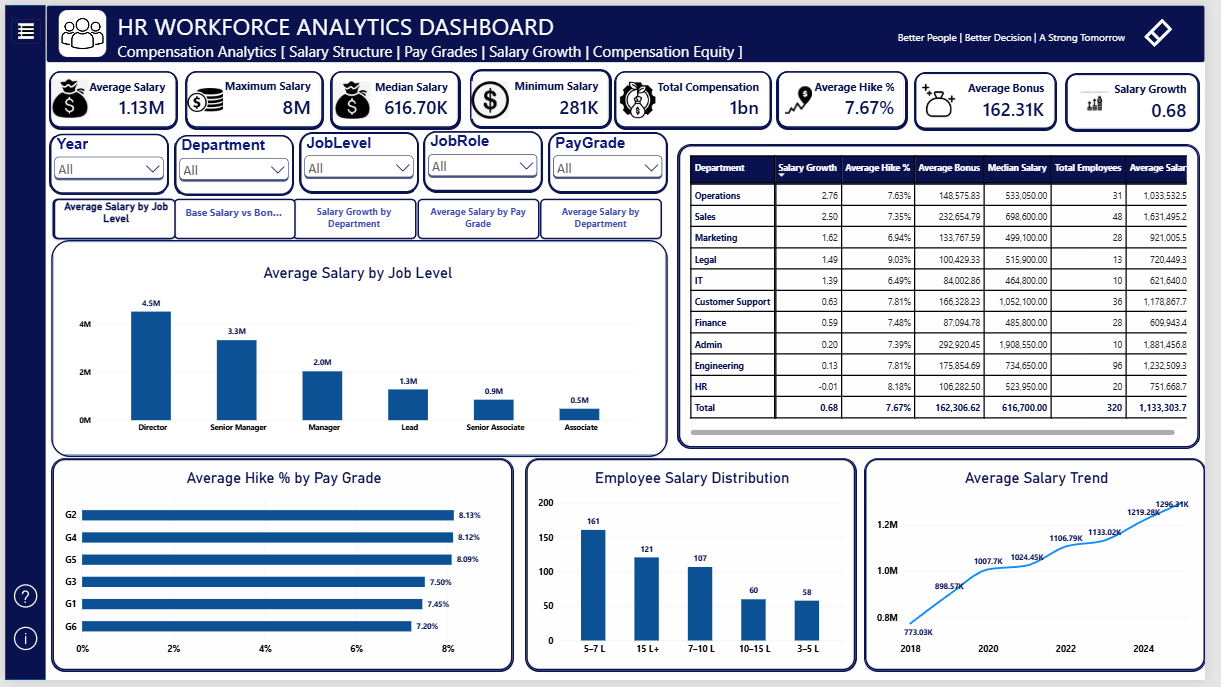

Layout of this report page (visuals, bound fields, positions):
{"tool":"powerbi","page":{"name":"Compensation Analytics","canvas":[1920,1080],"ordinal":4},"visuals":[{"type":"shape","title":"side corner layout","box":[0,0,65,1080],"z":0,"group":"g8"},{"type":"actionButton","title":"top nav bar","box":[66,0,1854,92],"z":0,"group":"g7"},{"type":"cardVisual","fields":{"Data":["Measures (2).Average Bonus"]},"box":[1456.4,108,225.7,90],"z":0,"group":"g9"},{"type":"cardVisual","fields":{"Data":["Measures (2).Salary Growth %"]},"box":[1699.2,108.3,211.7,90],"z":0,"group":"g10"},{"type":"slicer","fields":{"Values":["DimDate.Year"]},"box":[72,205.3,189.3,96],"z":0,"group":"g1"},{"type":"shape","box":[74,377.7,986.5,347.1],"z":0,"group":"g4"},{"type":"image","title":"people icon","box":[85,7.5,76,75],"z":1000,"group":"g7"},{"type":"image","box":[1456.4,122.3,75.7,61.4],"z":1000,"group":"g9"},{"type":"slicer","fields":{"Values":["DimEmployee.JobLevel"]},"box":[471.4,204,189.3,96],"z":1000,"group":"g1"},{"type":"actionButton","title":"sal by dept","box":[856.4,310.2,195,64.5],"z":1000,"group":"g3"},{"type":"actionButton","title":"info","box":[7.5,985,50,50],"z":1000,"group":"g8"},{"type":"actionButton","title":"clear slicer","box":[1794,12,102,66],"z":1500,"group":"g7"},{"type":"actionButton","title":"avg pay grade","box":[660.4,310.2,195,64.5],"z":1500,"group":"g3"},{"type":"textbox","box":[180,7.5,1220,85],"z":2000,"group":"g7"},{"type":"slicer","fields":{"Values":["DimEmployee.JobRole"]},"box":[670.1,202,189.3,96],"z":2000,"group":"g1"},{"type":"actionButton","title":"growth","box":[460.8,310,198.2,64.9],"z":2000,"group":"g3"},{"type":"actionButton","title":"help","box":[7.5,917.5,50,50],"z":2000,"group":"g8"},{"type":"textbox","box":[1306,22,486,62],"z":2500,"group":"g7"},{"type":"actionButton","title":"menu Button","box":[10,22.5,47.5,40],"z":3000,"group":"g8"},{"type":"group","id":"g1","title":"slicers","box":[72,202,988,102],"z":3000},{"type":"slicer","fields":{"Values":["DimDepartment.Department"]},"box":[271.2,208,189.3,96],"z":3000,"group":"g1"},{"type":"actionButton","title":"sal vs bouns","box":[271.6,310.4,195,64.5],"z":3000,"group":"g3"},{"type":"group","id":"g2","title":"Group 2","box":[72.5,103,1838.3,95.3],"z":4000},{"type":"actionButton","title":"sal by job level","box":[76.6,310.4,195,64.5],"z":4000,"group":"g3"},{"type":"columnChart","title":"Average Salary by Job Level","fields":{"Category":["DimEmployee.JobLevel"],"Y":["Measures (2).Average Salary"]},"box":[103.1,399.9,924.7,304.9],"z":4500,"group":"g5"},{"type":"clusteredBarChart","title":"Average Hike % by Pay Grade","fields":{"Category":["DimEmployee.PayGrade"],"Y":["Measures (2).Average Hike %"]},"box":[76,726,736,338],"z":4500},{"type":"actionButton","title":"Average Salary by Job Level","box":[77.4,311.4,195,64.5],"z":5000,"group":"g4"},{"type":"lineChart","title":"Average Salary Trend","fields":{"Category":["FactCompensation.Year"],"Y":["Measures (2).Average Salary"]},"box":[1376,726,544,338],"z":5000},{"type":"cardVisual","fields":{"Data":["Measures (2).Median Salary"]},"box":[522.4,105,205,90],"z":6000,"group":"g2"},{"type":"slicer","fields":{"Values":["DimEmployee.PayGrade"]},"box":[870.7,203,189.3,96],"z":6000,"group":"g1"},{"type":"cardVisual","fields":{"Data":["Measures (2).Average Hike %"]},"box":[1235.8,105,206.7,90],"z":6500,"group":"g2"},{"type":"cardVisual","fields":{"Data":["Measures (2).Total Compensation"]},"box":[975.9,105,249.7,90],"z":6750,"group":"g2"},{"type":"cardVisual","fields":{"Data":["Measures (2).Minimum Salary"]},"box":[745.5,103,222,92],"z":7000,"group":"g2"},{"type":"pivotTable","title":"Base Salary vs Bonus by Department","fields":{"Rows":["DimEmployee.Department"],"Values":["Measures (2).Salary Growth","Measures (2).Average Hike %","Measures (2).Average Bonus","Measures (2).Median Salary","Measures (2).Total Employees","Measures (2).Average Salary"]},"box":[1078,224,832,484],"z":7000},{"type":"cardVisual","fields":{"Data":["Measures (2).Maximum Salary"]},"box":[290.8,105,218.3,90],"z":8000,"group":"g2"},{"type":"image","box":[1712.5,121.6,63.3,61.7],"z":8000,"group":"g10"},{"type":"clusteredColumnChart","title":"Employee Salary Distribution","fields":{"Category":["FactCompensation.Salary Band"],"Y":["Measures (2).Employee Count"]},"box":[834,726,526,338],"z":8000},{"type":"cardVisual","fields":{"Data":["Measures (2).Average Salary"]},"box":[72.5,105,203.3,90],"z":9000,"group":"g2"},{"type":"group","id":"g3","title":"inactive button","box":[76.6,310,974.8,64.9],"z":9000,"group":"g6"},{"type":"image","box":[975.6,120,72.8,60],"z":10000,"group":"g2"},{"type":"group","id":"g4","title":"active buttons","box":[74,310.8,986.5,413.9],"z":10000,"group":"g6"},{"type":"image","box":[744.7,120,65,60],"z":11000,"group":"g2"},{"type":"group","id":"g5","title":"charts","box":[88.9,394,956.7,314.6],"z":11000,"group":"g6"},{"type":"group","id":"g6","title":"Group 4","box":[74,310,986,416],"z":11001},{"type":"group","id":"g7","title":"top nav bar","box":[66,0,1854,92.5],"z":11126},{"type":"group","id":"g8","title":"menu bar","box":[0,0,65,1080],"z":11501},{"type":"image","box":[522.4,120,68.3,60],"z":12000,"group":"g2"},{"type":"image","box":[291.8,120,56.7,60],"z":13000,"group":"g2"},{"type":"image","box":[74,116.7,60,63.3],"z":14000,"group":"g2"},{"type":"image","box":[1247.5,120,43.3,60],"z":15000,"group":"g2"},{"type":"group","id":"g9","title":"Group 3","box":[1456.4,108,225,90],"z":16000,"group":"g2"},{"type":"group","id":"g10","title":"Group 1","box":[1699.2,108.3,211.7,90],"z":17000,"group":"g2"}]}

Visuals, with their boxes in screenshot pixels (x1, y1, x2, y2), scaled from the page's 1920x1080 canvas onto the 1221x687 screenshot:
"side corner layout" shape: 0/0/41/686
"top nav bar" actionButton: 42/0/1220/59
cardVisual - Measures (2).Average Bonus: 926/69/1070/126
cardVisual - Measures (2).Salary Growth %: 1081/69/1215/126
slicer - DimDate.Year: 46/131/166/192
shape: 47/240/674/461
"people icon" image: 54/5/102/52
image: 926/78/974/117
slicer - DimEmployee.JobLevel: 300/130/420/191
"sal by dept" actionButton: 545/197/669/238
"info" actionButton: 5/627/37/658
"clear slicer" actionButton: 1141/8/1206/50
"avg pay grade" actionButton: 420/197/544/238
textbox: 114/5/890/59
slicer - DimEmployee.JobRole: 426/128/547/190
"growth" actionButton: 293/197/419/238
"help" actionButton: 5/584/37/615
textbox: 831/14/1140/53
"menu Button" actionButton: 6/14/37/40
"slicers" group: 46/128/674/193
slicer - DimDepartment.Department: 172/132/293/193
"sal vs bouns" actionButton: 173/197/297/238
"Group 2" group: 46/66/1215/126
"sal by job level" actionButton: 49/197/173/238
"Average Salary by Job Level" columnChart: 66/254/654/448
"Average Hike % by Pay Grade" clusteredBarChart: 48/462/516/677
"Average Salary by Job Level" actionButton: 49/198/173/239
"Average Salary Trend" lineChart: 875/462/1220/677
cardVisual - Measures (2).Median Salary: 332/67/463/124
slicer - DimEmployee.PayGrade: 554/129/674/190
cardVisual - Measures (2).Average Hike %: 786/67/917/124
cardVisual - Measures (2).Total Compensation: 621/67/779/124
cardVisual - Measures (2).Minimum Salary: 474/66/615/124
"Base Salary vs Bonus by Department" pivotTable: 686/142/1215/450
cardVisual - Measures (2).Maximum Salary: 185/67/324/124
image: 1089/77/1129/117
"Employee Salary Distribution" clusteredColumnChart: 530/462/865/677
cardVisual - Measures (2).Average Salary: 46/67/175/124
"inactive button" group: 49/197/669/238
image: 620/76/667/114
"active buttons" group: 47/198/674/461
image: 474/76/515/114
"charts" group: 57/251/665/451
"Group 4" group: 47/197/674/462
"top nav bar" group: 42/0/1220/59
"menu bar" group: 0/0/41/686
image: 332/76/376/114
image: 186/76/222/114
image: 47/74/85/114
image: 793/76/821/114
"Group 3" group: 926/69/1069/126
"Group 1" group: 1081/69/1215/126
